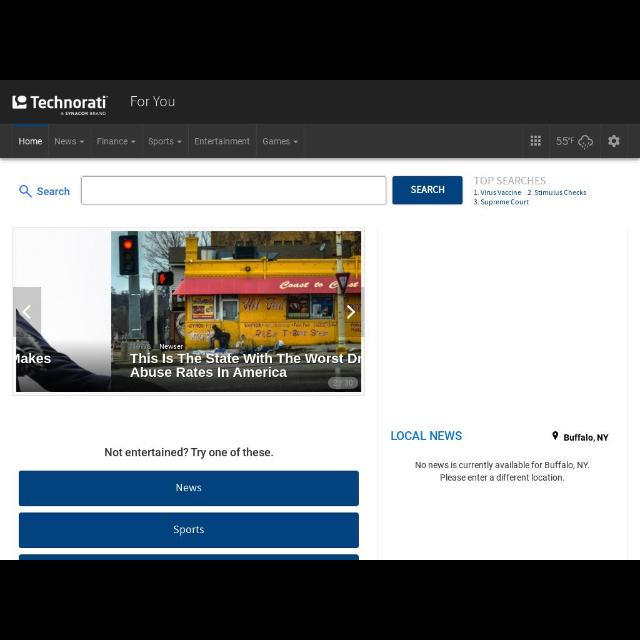button: (336, 288, 364, 338), (13, 288, 42, 336)
icon: (578, 136, 594, 150), (19, 185, 33, 199), (22, 304, 32, 320), (530, 135, 542, 147), (608, 135, 620, 147), (346, 305, 354, 319), (552, 430, 558, 440), (176, 139, 182, 145), (130, 140, 136, 144), (294, 140, 298, 144), (80, 140, 84, 144)
image: (16, 232, 362, 392), (12, 94, 110, 116)
input: (81, 177, 386, 205)
spinner: (91, 125, 142, 157), (258, 124, 304, 158), (143, 125, 189, 157), (49, 124, 91, 156)
text: (414, 461, 590, 482), (104, 448, 274, 460), (474, 190, 586, 206), (391, 430, 463, 442), (474, 176, 546, 186), (130, 94, 176, 108), (194, 138, 250, 146), (564, 434, 608, 442), (411, 185, 445, 195), (96, 136, 128, 146), (173, 526, 204, 536), (38, 188, 70, 196), (19, 136, 43, 146), (176, 483, 202, 492), (262, 138, 290, 146), (148, 138, 175, 146), (54, 138, 78, 146), (556, 136, 574, 146)
textbutton: (19, 471, 359, 507), (19, 513, 359, 547), (392, 177, 462, 206)
toolbar: (1, 124, 640, 158)
